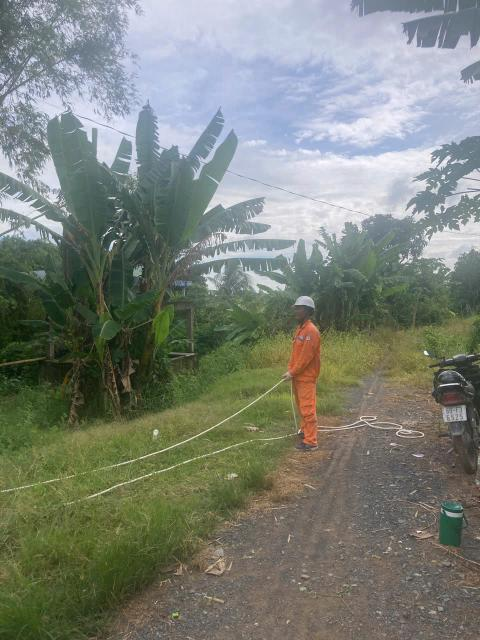gloves: (277, 369, 295, 384)
helmet: (290, 288, 321, 316)
shoes: (294, 438, 324, 456)
